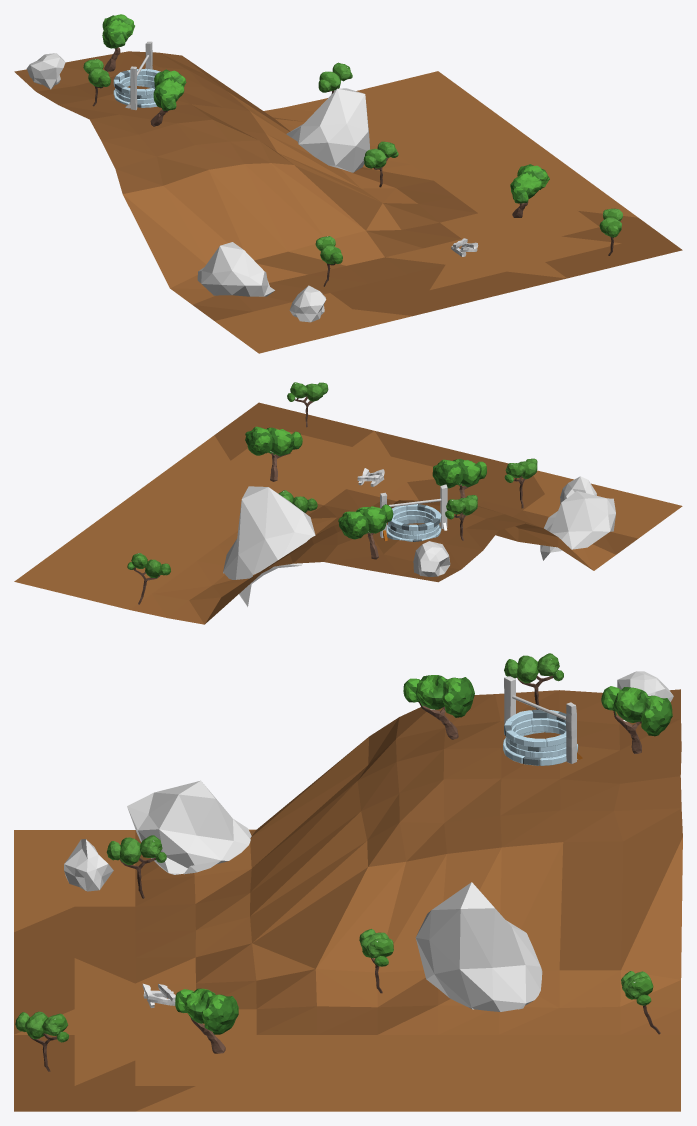
File: nature_pack.fbx
3 renders of one model, top to bottom at view 1: azimuth 30°, elevation 25°; view 2: azimuth 150°, elevation 25°; view 3: azimuth 270°, elevation 25°, orthographic. The views are drawn at different scales.
Parts seen in each view (by area): view 1: Plane, Boulder3.001, Boulder3, Cube, Tree2, Tree2.002, Tree2.001, Boulder2, Boulder1, Tree 1.003, Tree 1.005, Tree 1.002 (+2 smaller); view 2: Plane, Boulder3.001, Boulder3, Cube, Tree2.002, Tree2.001, Tree2, Boulder1, Tree 1.005, Tree 1.004, Tree 1.002, Tree 1.001 (+2 smaller); view 3: Plane, Boulder3.001, Boulder3, Cube, Tree2.001, Tree2, Tree2.002, Boulder2, Tree 1.002, Tree 1.001, Tree 1.004, Tree 1.003 (+2 smaller).
Boxes of the visible parts, left/top/right/bottom form: Plane: left=14, top=51, right=682, bottom=353; Boulder3.001: left=286, top=88, right=369, bottom=172; Boulder3: left=197, top=242, right=274, bottom=296; Cube: left=113, top=68, right=160, bottom=107; Tree2: left=150, top=69, right=186, bottom=126; Tree2.002: left=510, top=164, right=549, bottom=217; Tree2.001: left=102, top=14, right=134, bottom=71; Boulder2: left=289, top=285, right=326, bottom=322; Boulder1: left=26, top=53, right=65, bottom=89; Tree 1.003: left=363, top=141, right=398, bottom=187; Tree 1.005: left=318, top=62, right=352, bottom=94; Tree 1.002: left=315, top=236, right=342, bottom=286; Plane: left=14, top=402, right=682, bottom=624; Boulder3.001: left=223, top=486, right=315, bottom=606; Boulder3: left=540, top=491, right=615, bottom=560; Cube: left=387, top=504, right=441, bottom=541; Tree2.002: left=245, top=426, right=302, bottom=481; Tree2.001: left=338, top=504, right=393, bottom=559; Tree2: left=432, top=459, right=486, bottom=515; Boulder1: left=413, top=541, right=450, bottom=576; Tree 1.005: left=127, top=553, right=170, bottom=604; Tree 1.004: left=287, top=382, right=328, bottom=427; Tree 1.002: left=504, top=458, right=537, bottom=508; Tree 1.001: left=445, top=495, right=477, bottom=540; Plane: left=14, top=689, right=682, bottom=1111; Boulder3.001: left=415, top=882, right=542, bottom=1011; Boulder3: left=127, top=780, right=251, bottom=874; Cube: left=503, top=709, right=577, bottom=765; Tree2.001: left=601, top=686, right=672, bottom=753; Tree2: left=403, top=675, right=474, bottom=739; Tree2.002: left=175, top=988, right=238, bottom=1053; Boulder2: left=64, top=839, right=113, bottom=891; Tree 1.002: left=106, top=835, right=166, bottom=898; Tree 1.001: left=504, top=653, right=563, bottom=709; Tree 1.004: left=15, top=1011, right=68, bottom=1071; Tree 1.003: left=359, top=929, right=393, bottom=993.
Size of the model in its own units: 13911 by 4988 by 13759.
